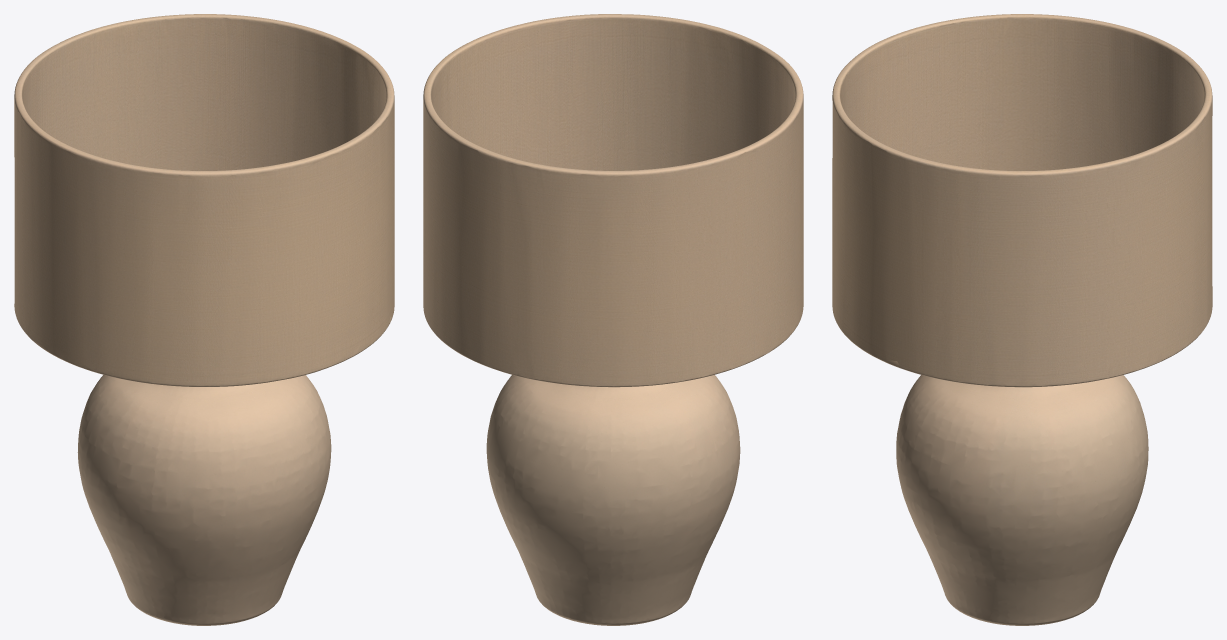
Rendered from sol_table_lamp.glb.
3 views of the same model, side by side, from view 1: azimuth 30°, elevation 25°; view 2: azimuth 150°, elevation 25°; view 3: azimuth 270°, elevation 25° (orthographic).
Parts seen in each view (by area): view 1: Shade, Ceramic; view 2: Shade, Ceramic; view 3: Shade, Ceramic.
Boxes of the visible parts, box(x1,y1,x2,y2) form: Shade: box(14, 14, 394, 386); Ceramic: box(77, 375, 331, 625); Shade: box(423, 14, 803, 387); Ceramic: box(486, 374, 740, 625); Shade: box(832, 14, 1212, 387); Ceramic: box(896, 375, 1148, 625).
Size of the model in its own units: 1.3 by 1.9 by 1.3.
Materials: 4 (3 with a texture image).
